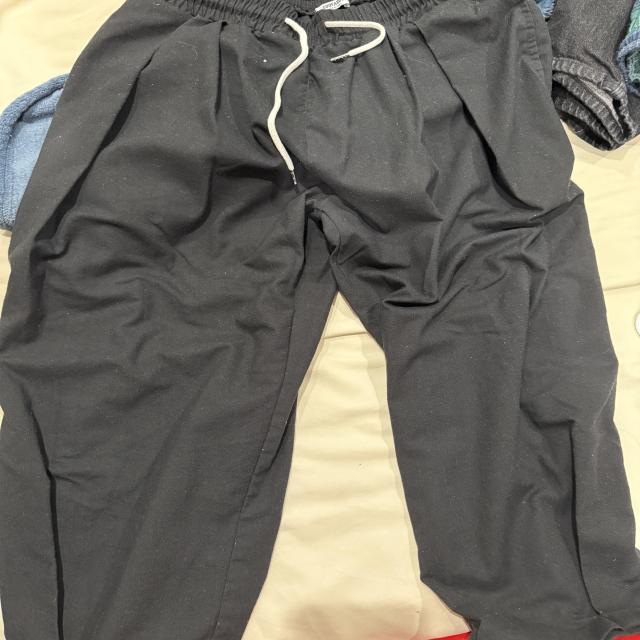back_tag: (303, 0, 364, 13)
